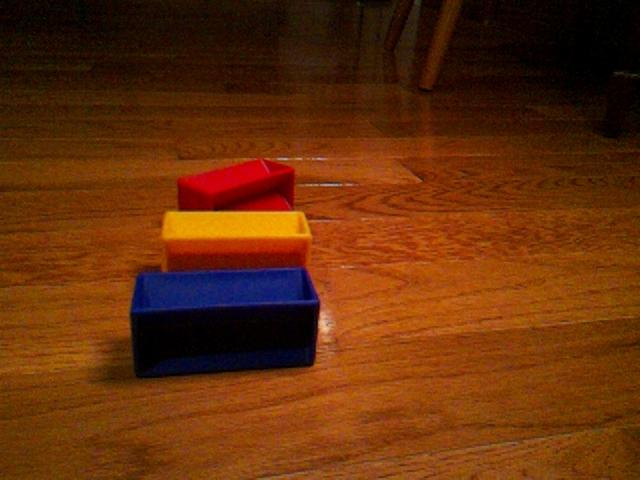blue: (129, 265, 321, 379)
red: (176, 157, 297, 211)
yellow: (161, 209, 313, 271)
